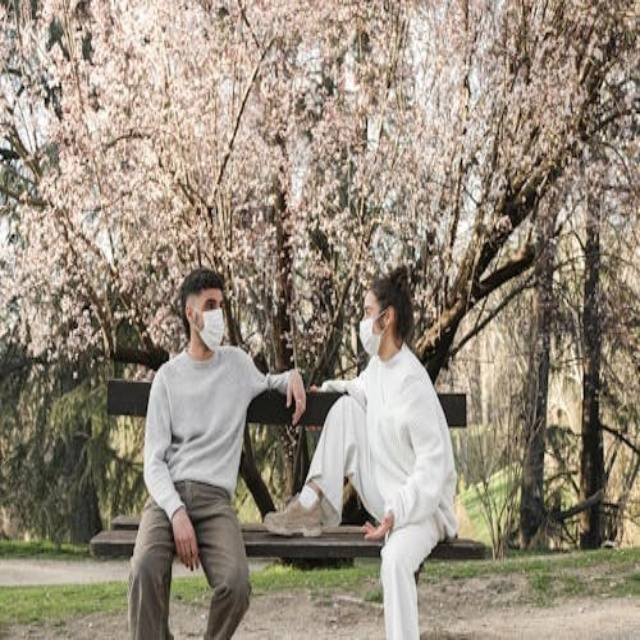Mascara: (191, 307, 225, 350), (359, 311, 388, 357)
Sin_gafas: (358, 302, 380, 323), (203, 300, 221, 311)
Sin_guantes: (172, 515, 201, 569)
